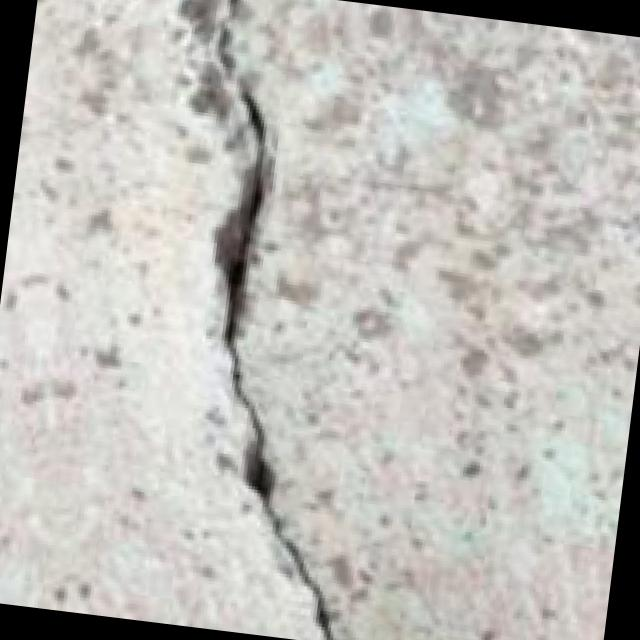crack: (106, 0, 428, 640)
